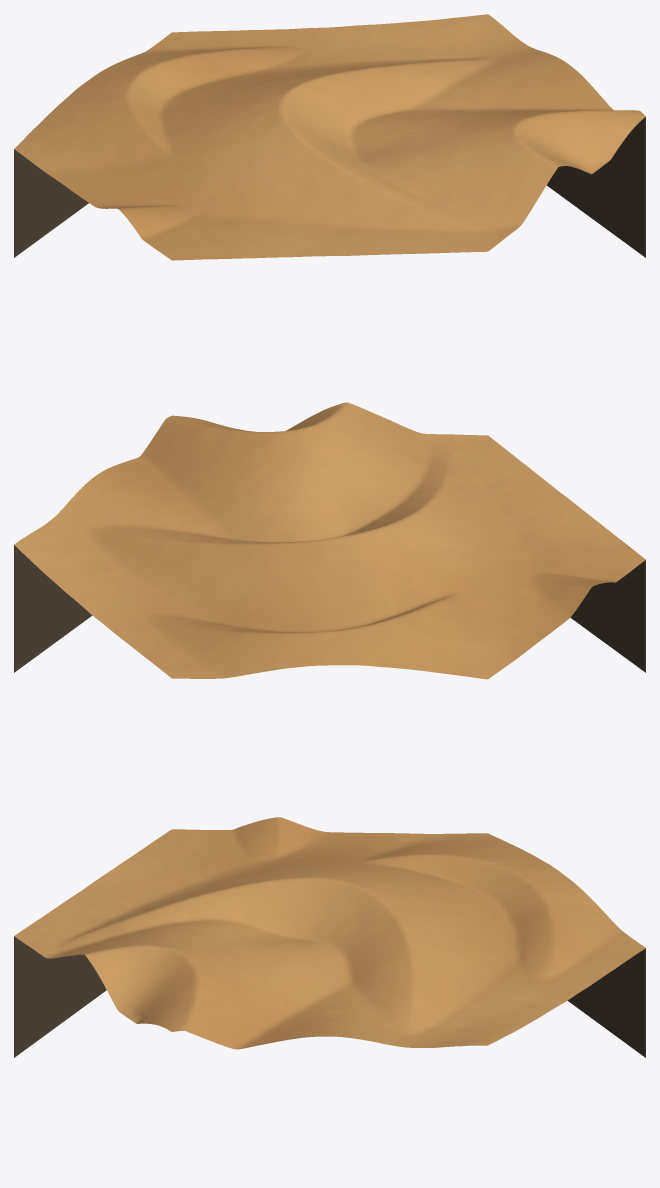
3 views of the same model, one above another, from view 1: azimuth 30°, elevation 25°; view 2: azimuth 150°, elevation 25°; view 3: azimuth 270°, elevation 25° (orthographic).
Visible parts, largest first — view 1: terrain, hex_side_cut; view 2: terrain, hex_side_cut; view 3: terrain, hex_side_cut.
Part boxes in pixels (x1,y1,x2,y2): terrain: (14,14,645,260); hex_side_cut: (14,117,645,257); terrain: (14,402,645,679); hex_side_cut: (14,545,645,672); terrain: (14,817,645,1049); hex_side_cut: (14,936,645,1057).
Size of the model in its own units: 4330 by 1403 by 5000.
